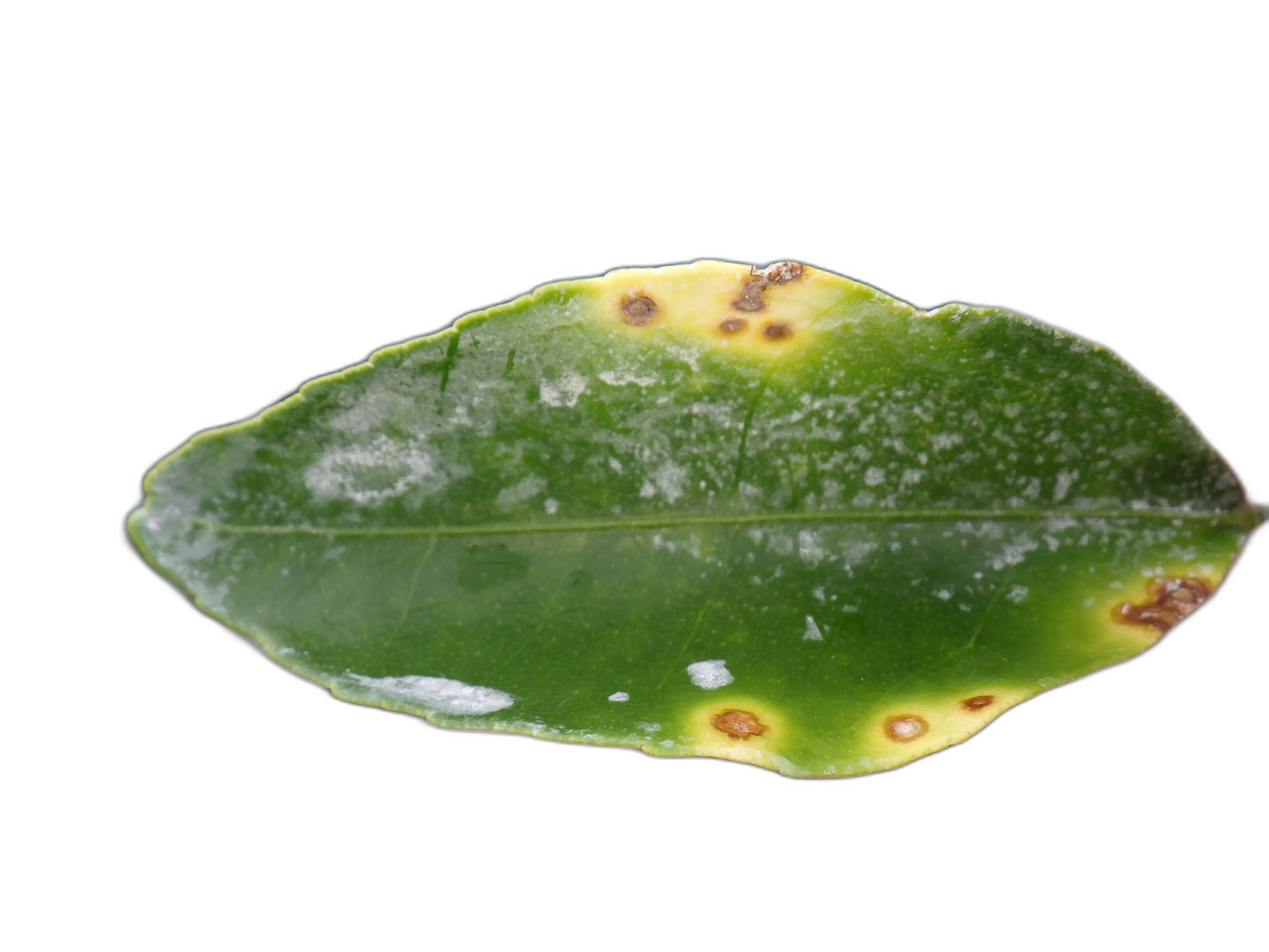Canker: (1109, 573, 1218, 635), (731, 263, 809, 315), (710, 706, 771, 741), (617, 291, 662, 328), (880, 713, 929, 744), (955, 693, 998, 713), (763, 321, 796, 343), (716, 318, 748, 339)
